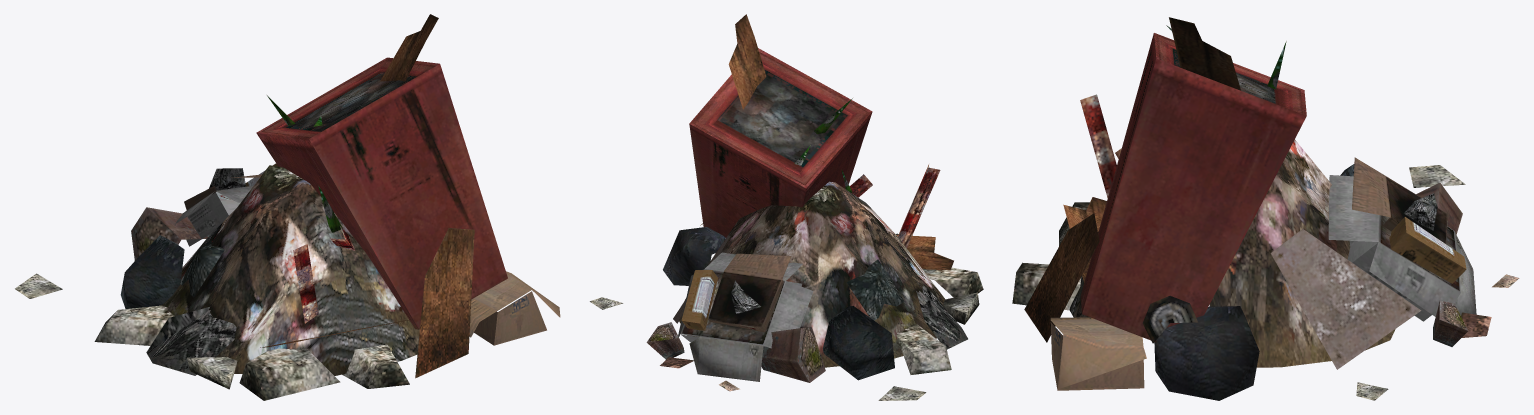
File: Prop_Garbage01_lod2.glb
3 renders of one model, left to right at view 1: azimuth 30°, elevation 25°; view 2: azimuth 150°, elevation 25°; view 3: azimuth 270°, elevation 25°, orthographic. The views are drawn at different scales.
Parts seen in each view (by area): view 1: garbage01_lod2; view 2: garbage01_lod2; view 3: garbage01_lod2.
Boxes of the visible parts, x1,y1,x2,y2 form: garbage01_lod2: (15,14,560,400); garbage01_lod2: (589,14,983,400); garbage01_lod2: (1012,17,1519,400).
Bounding box in the file's own units: 4.71 × 3.43 × 4.4.
Materials: 1 (1 with a texture image).
